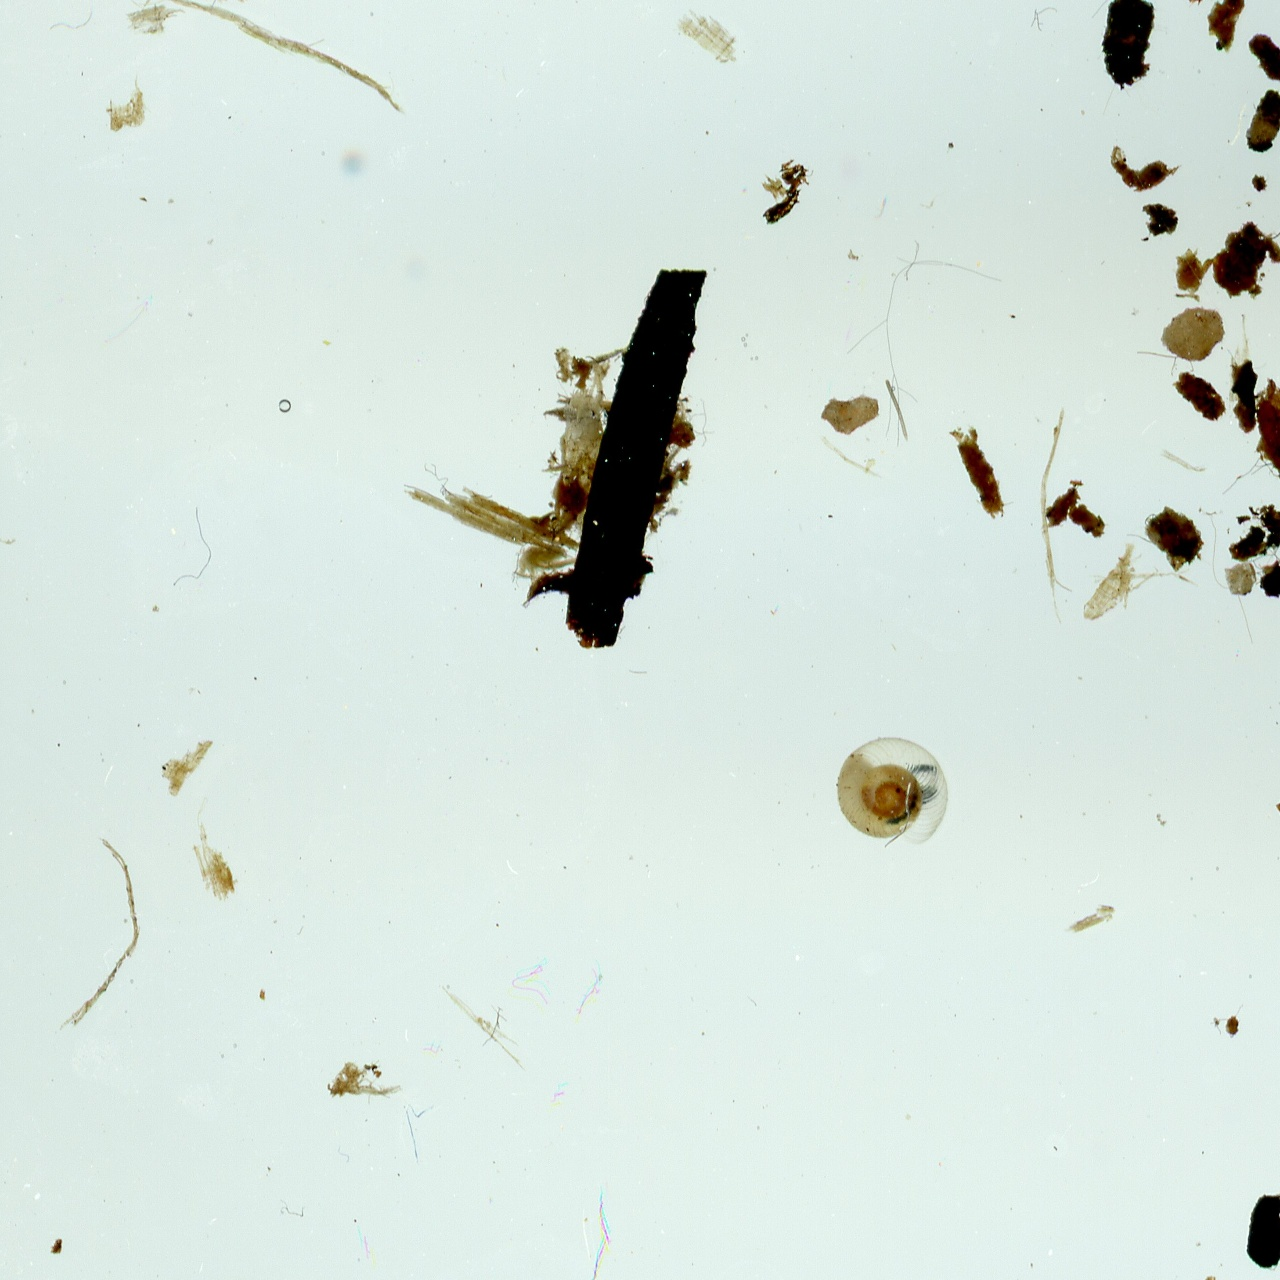arthropod: (833, 733, 953, 850)
